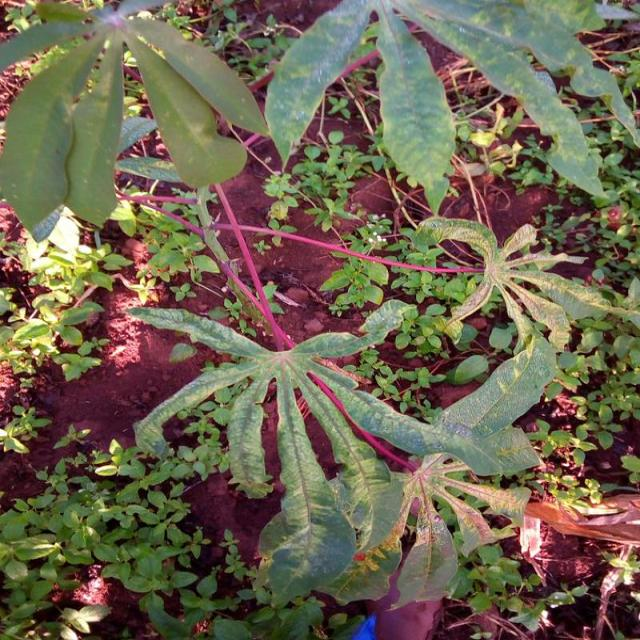cassava leaf: (0, 0, 269, 242), (300, 329, 558, 478), (0, 17, 124, 242)
